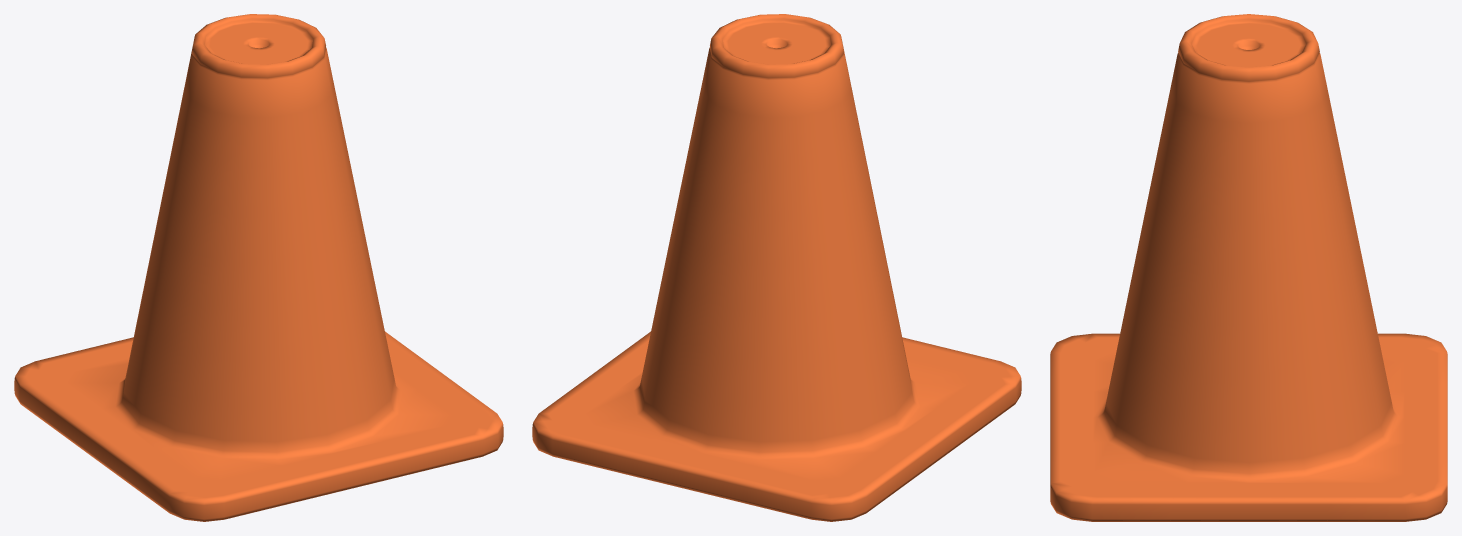
Rendered from Traffic Cone.fbx.
The picture shows the model from 3 angles, left to right: view 1: azimuth 30°, elevation 25°; view 2: azimuth 150°, elevation 25°; view 3: azimuth 270°, elevation 25°; orthographic projection. The views are drawn at different scales.
Parts seen in each view (by area): view 1: Plane; view 2: Plane; view 3: Plane.
Part boxes in pixels (box(x1,y1,x2,y2)): Plane: box(14, 14, 503, 521); Plane: box(532, 14, 1021, 521); Plane: box(1050, 14, 1447, 521).
Size of the model in its own units: 100 by 111 by 100.
